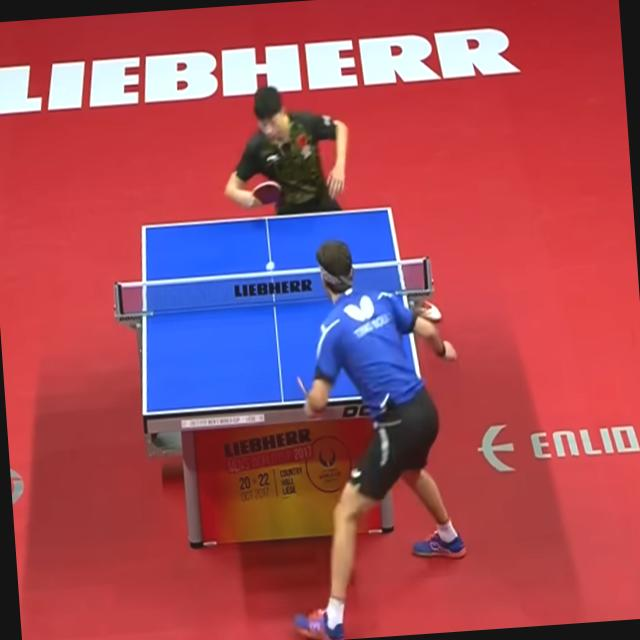TT Net: (113, 256, 432, 329)
TT Racket: (248, 170, 291, 213), (290, 373, 319, 412)
TT Table: (124, 202, 425, 421)
